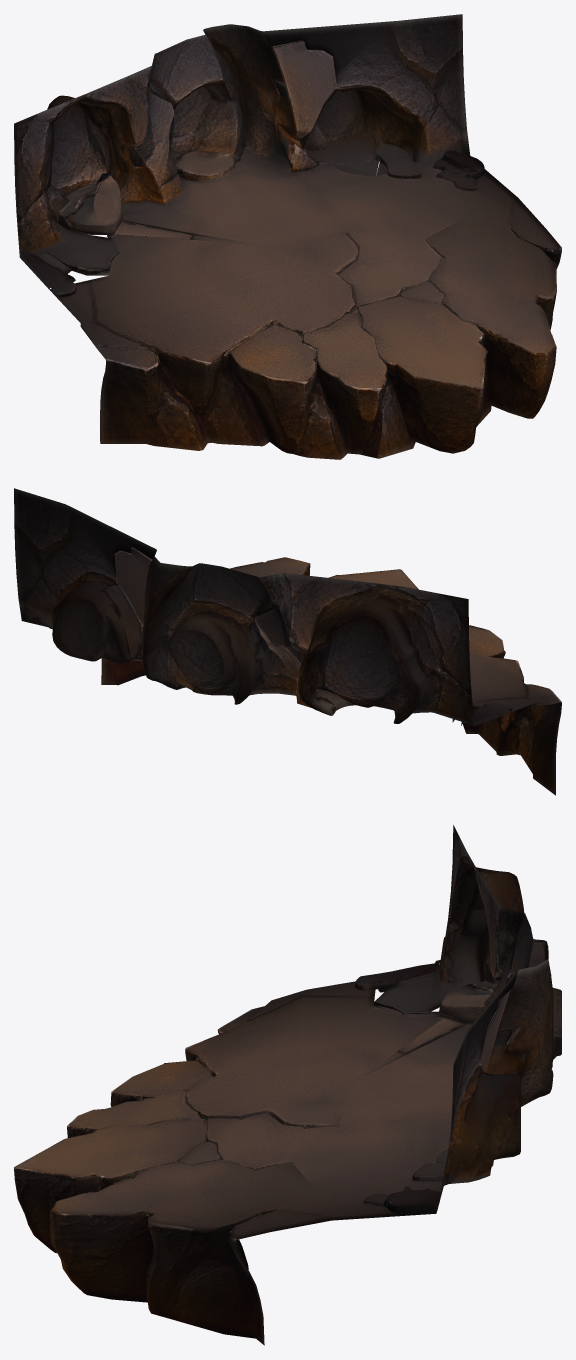
The model's file is underground+cavern+3d+model.fbx.
3 views of the same model, one above another, from view 1: azimuth 30°, elevation 25°; view 2: azimuth 150°, elevation 25°; view 3: azimuth 270°, elevation 25° (orthographic). The views are drawn at different scales.
Visible parts, largest first — view 1: a3c2c320_20ca_4ec3_bee9_a7681eca8340; view 2: a3c2c320_20ca_4ec3_bee9_a7681eca8340; view 3: a3c2c320_20ca_4ec3_bee9_a7681eca8340.
Boxes of the visible parts, box(x1,y1,x2,y2) form: a3c2c320_20ca_4ec3_bee9_a7681eca8340: box(14, 14, 561, 459); a3c2c320_20ca_4ec3_bee9_a7681eca8340: box(14, 488, 561, 795); a3c2c320_20ca_4ec3_bee9_a7681eca8340: box(14, 825, 561, 1345).
Size of the model in its own units: 0.9995 by 0.563 by 0.9653.
1 material, 1 textured.
